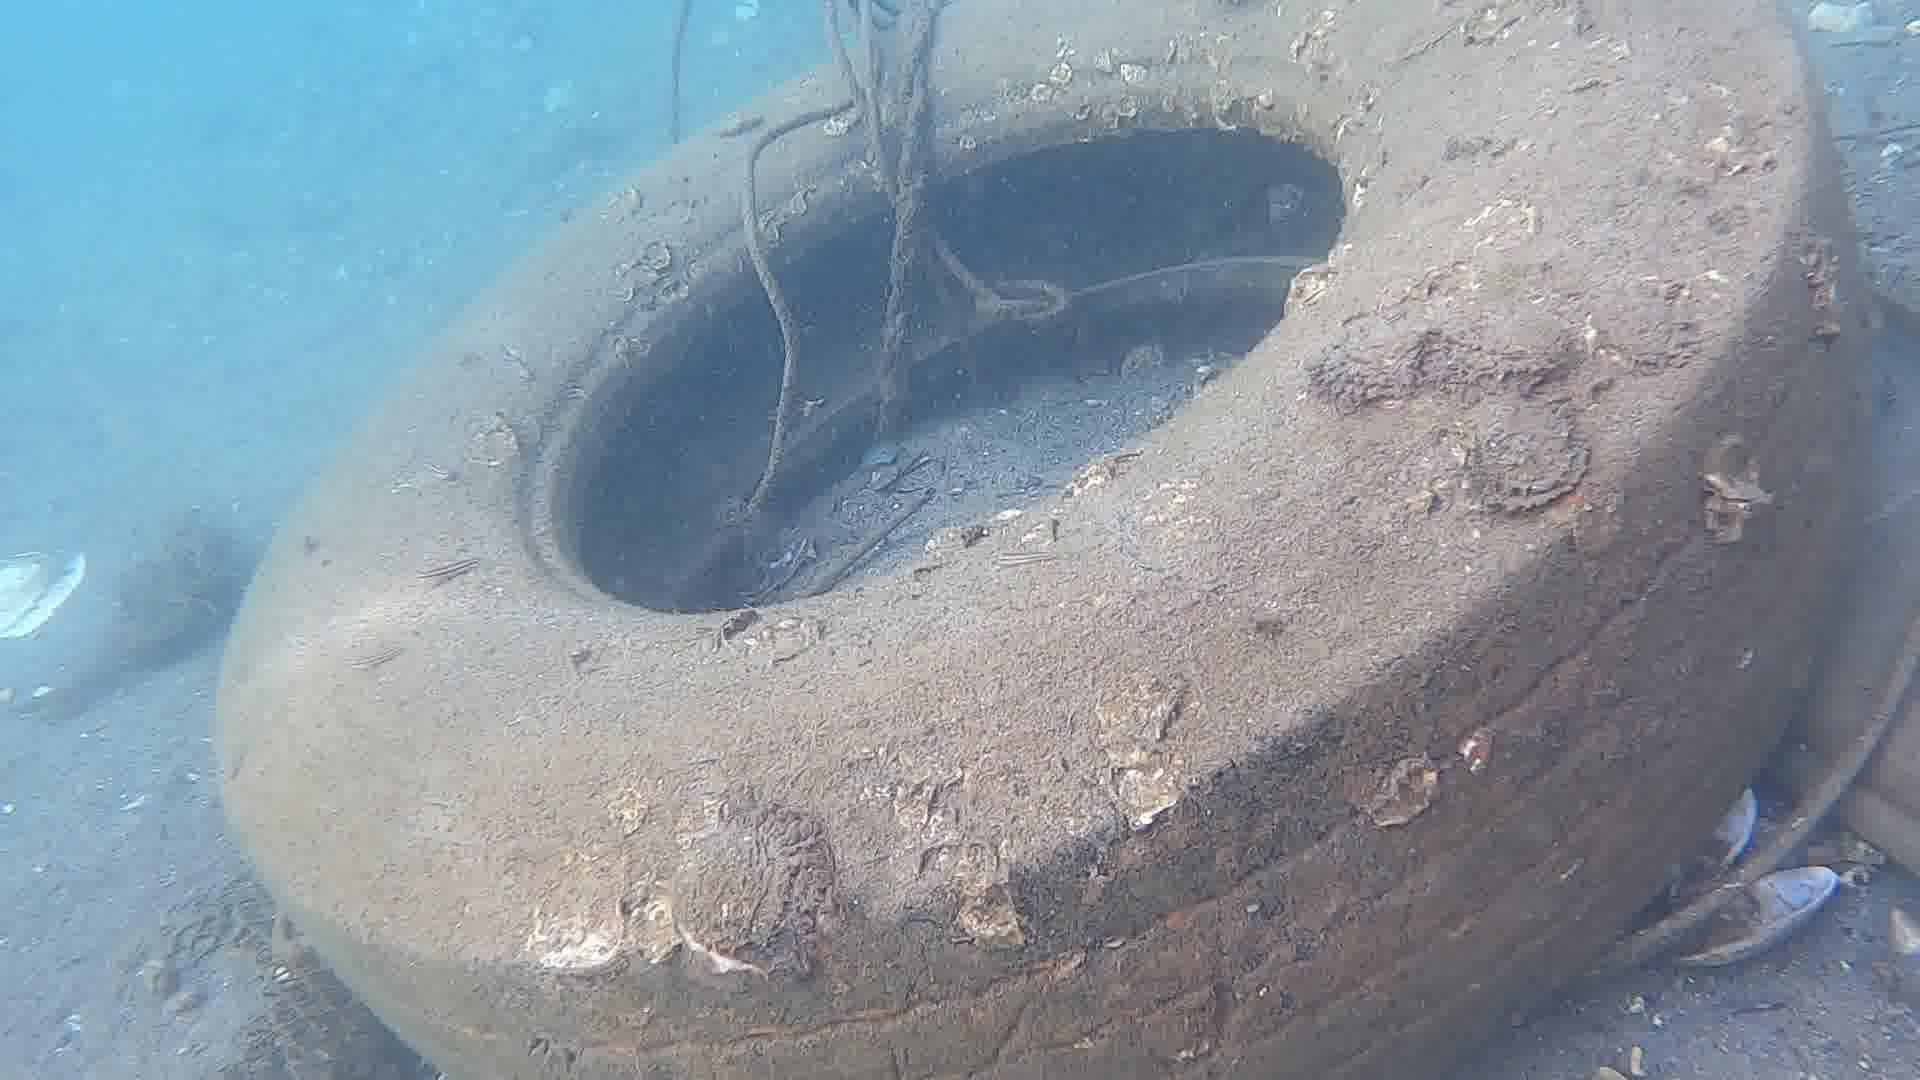bundle of ropes: (666, 0, 1075, 498)
tire: (210, 0, 1880, 1080)
